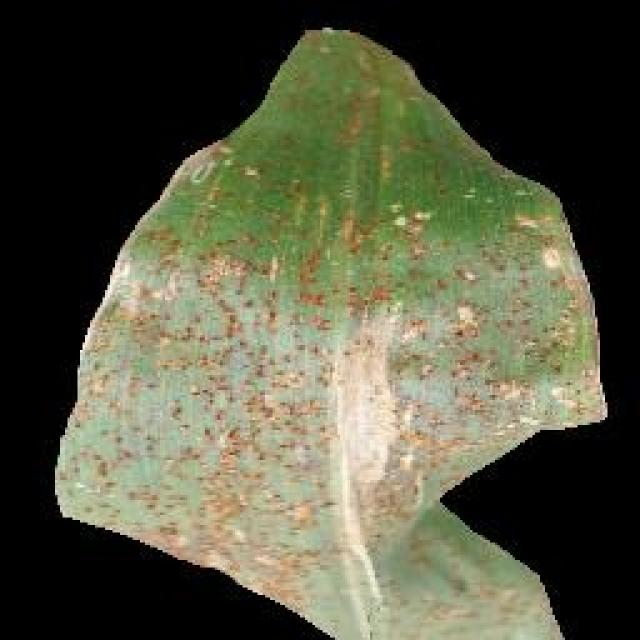Corn Common Rust: (127, 192, 520, 586)
